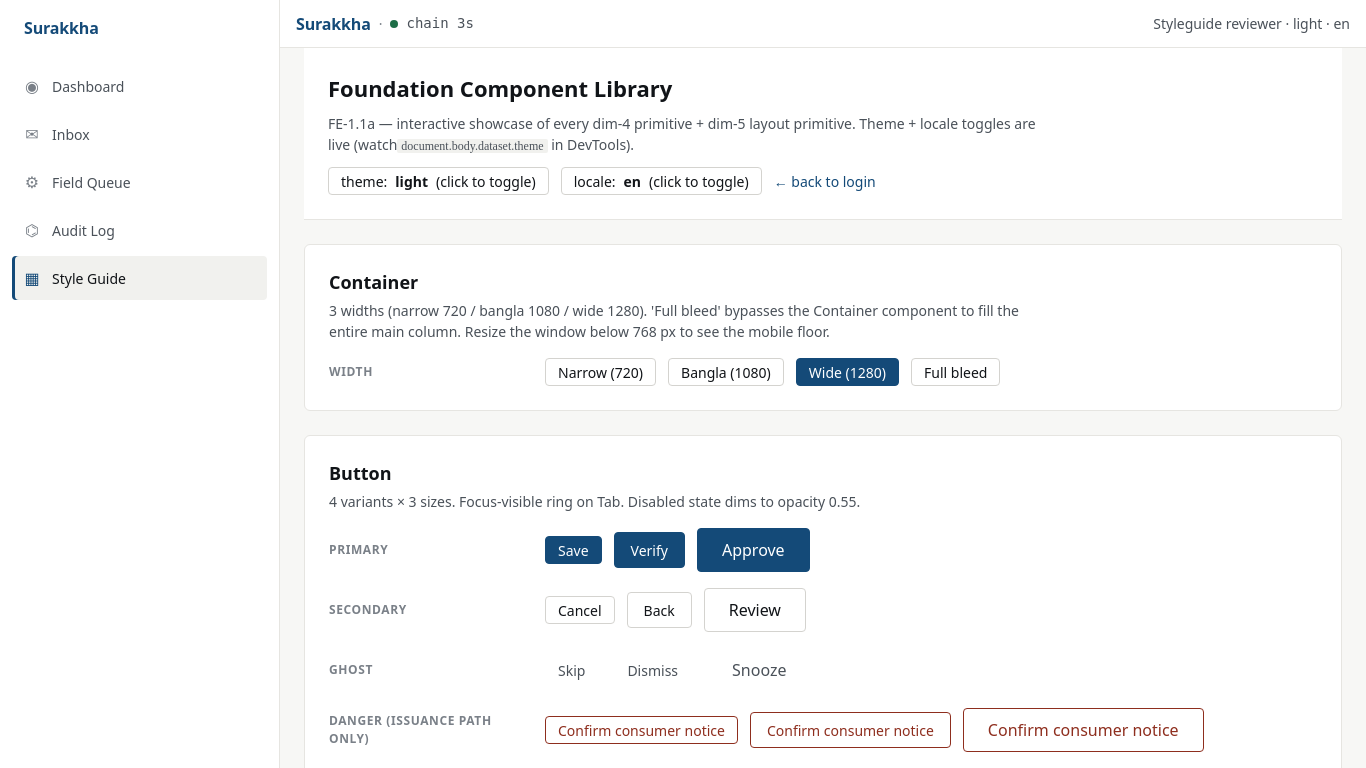
WO-015 Styleguide Page reconciliation › (10a) theme toggle changes body.dataset.theme and persists
expect the link "← back to login" is shown: met, box [774,170,876,192]
Click the button "theme: light (click to toggle)" at x=438, y=181, box [328,167,549,195]
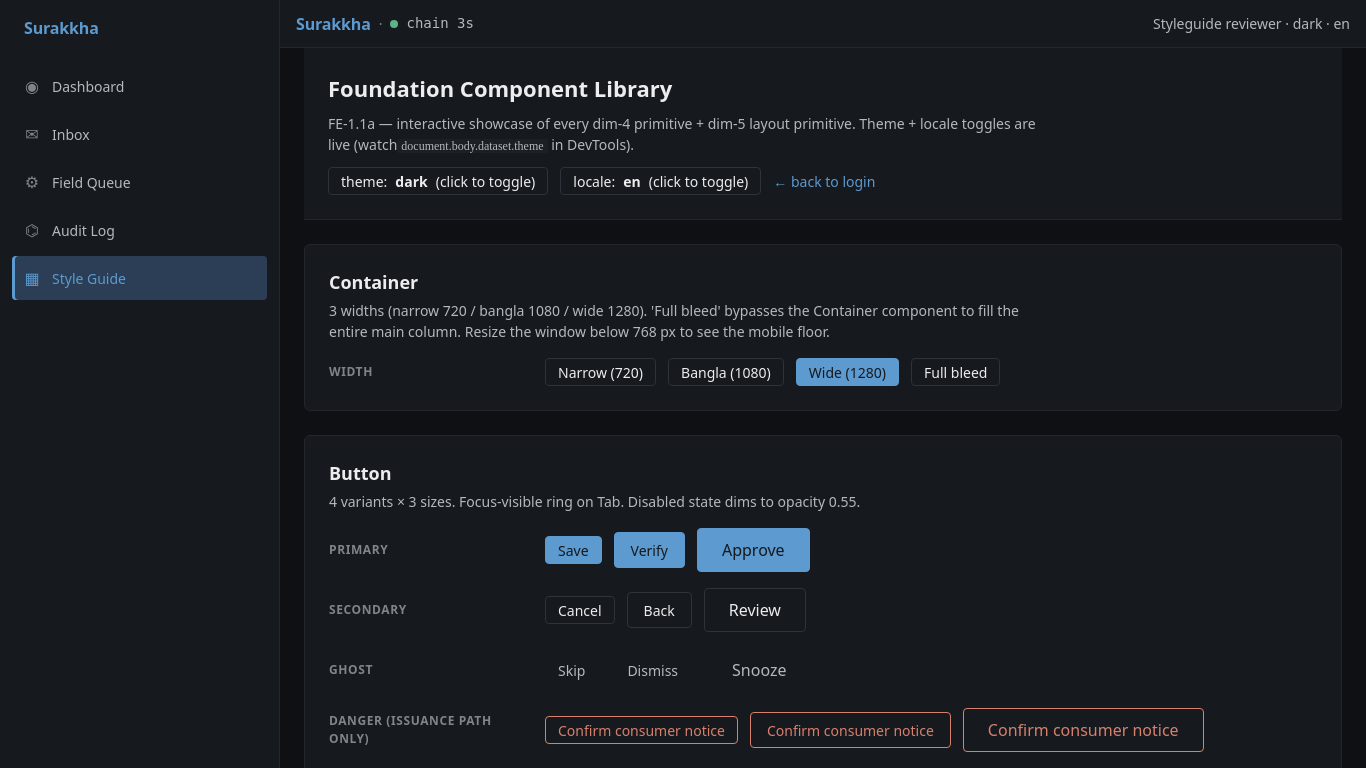
expect the text "dark" is shown: met, box [395,172,428,190]
